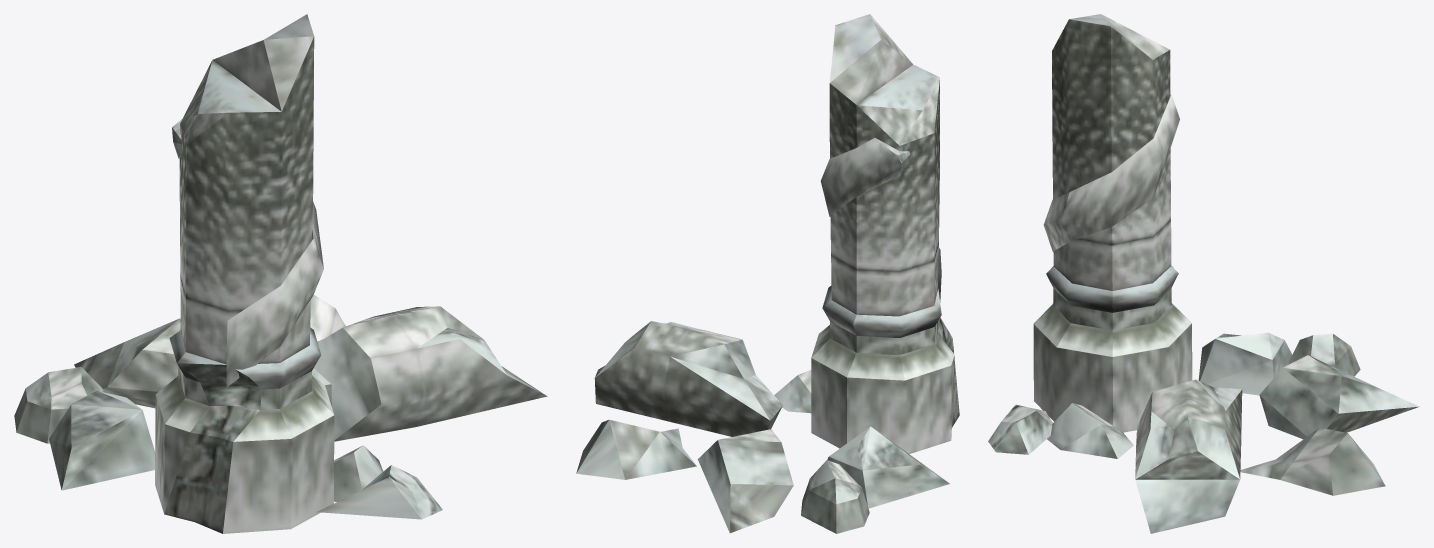
File: S_Build_Snowland101.FBX
3 views of the same model, side by side, from view 1: azimuth 30°, elevation 25°; view 2: azimuth 150°, elevation 25°; view 3: azimuth 270°, elevation 25° (orthographic). The views are drawn at different scales.
Parts seen in each view (by area): view 1: S_Build_Snowland101; view 2: S_Build_Snowland101; view 3: S_Build_Snowland101.
Part boxes in pixels (box(x1,y1,x2,y2)): S_Build_Snowland101: box(14, 14, 547, 533); S_Build_Snowland101: box(576, 14, 959, 533); S_Build_Snowland101: box(988, 14, 1419, 533).
Size of the model in its own units: 767 by 734 by 769.
